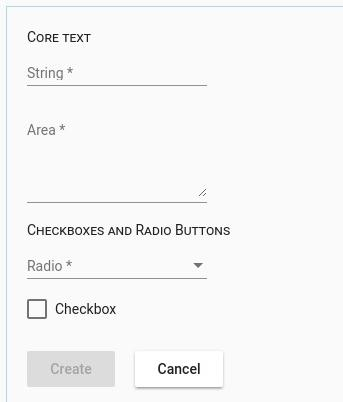button: (129, 348, 227, 391), (25, 349, 119, 391)
checkbox: (24, 296, 51, 323)
checkbox_with_label: (21, 294, 116, 325)
field_line: (26, 122, 208, 205), (22, 251, 210, 283), (24, 57, 208, 89)
